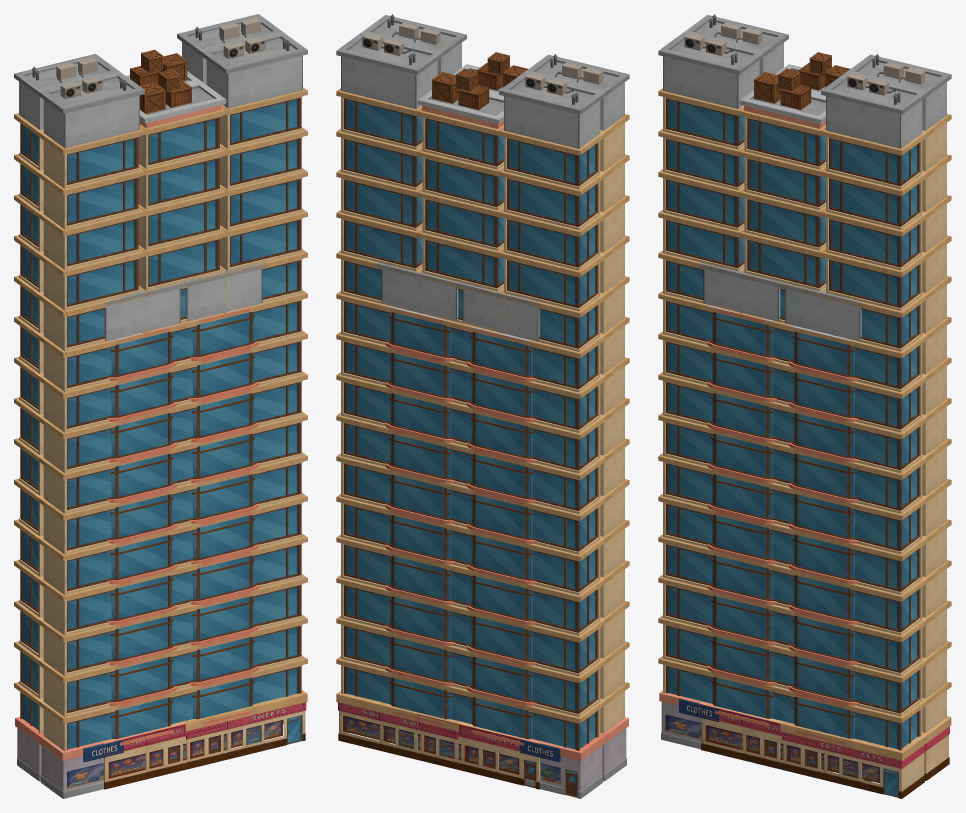
The model's file is modular-city.glb.
The picture shows the model from 3 angles, left to right: view 1: azimuth 30°, elevation 25°; view 2: azimuth 150°, elevation 25°; view 3: azimuth 330°, elevation 25°; orthographic projection.
Parts seen in each view (by area): view 1: Cube.002_Plate.004_Atlas_0 (×59), Cube.003_Atlas_0 (×20), Cube.002_Plate.011_Atlas_0 (×6), Building.013_Atlas_0 (×2), Building.002_Atlas_0 (×2), Building.001_Atlas_0 (×2), Cube.002_Plate.009_Atlas_0, Cube.008_Atlas_0; view 2: Cube.002_Plate.004_Atlas_0 (×60), Cube.003_Atlas_0 (×20), Cube.002_Plate.011_Atlas_0 (×6), Building.013_Atlas_0 (×2), Building.001_Atlas_0 (×2), Building.002_Atlas_0 (×2), Cube.002_Plate.009_Atlas_0, Cube.008_Atlas_0, Cube.007_Atlas_0; view 3: Cube.002_Plate.004_Atlas_0 (×59), Cube.003_Atlas_0 (×20), Cube.002_Plate.011_Atlas_0 (×6), Building.013_Atlas_0 (×3), Building.001_Atlas_0 (×2), Building.002_Atlas_0, Cube.002_Plate.009_Atlas_0, Cube.008_Atlas_0, Cube.007_Atlas_0.
Part boxes in pixels (x1,y1,x2,y2): Cube.002_Plate.004_Atlas_0 (×59): (14, 87, 307, 751); Cube.003_Atlas_0 (×20): (107, 304, 259, 745); Cube.002_Plate.011_Atlas_0 (×6): (14, 14, 307, 341); Building.013_Atlas_0 (×2): (183, 690, 307, 769); Building.002_Atlas_0 (×2): (15, 717, 143, 798); Building.001_Atlas_0 (×2): (101, 712, 226, 789); Cube.002_Plate.009_Atlas_0: (140, 81, 226, 128); Cube.008_Atlas_0: (140, 82, 165, 113); Cube.002_Plate.004_Atlas_0 (×60): (336, 88, 629, 750); Cube.003_Atlas_0 (×20): (384, 305, 536, 745); Cube.002_Plate.011_Atlas_0 (×6): (336, 15, 629, 341); Building.013_Atlas_0 (×2): (336, 691, 460, 763); Building.001_Atlas_0 (×2): (418, 713, 542, 789); Building.002_Atlas_0 (×2): (500, 717, 628, 798); Cube.002_Plate.009_Atlas_0: (417, 90, 503, 128); Cube.008_Atlas_0: (432, 72, 458, 103); Cube.007_Atlas_0: (458, 84, 489, 110); Cube.002_Plate.004_Atlas_0 (×59): (658, 88, 951, 750); Cube.003_Atlas_0 (×20): (707, 304, 858, 745); Cube.002_Plate.011_Atlas_0 (×6): (658, 15, 951, 341); Building.013_Atlas_0 (×3): (780, 716, 951, 798); Building.001_Atlas_0 (×2): (699, 701, 823, 772); Building.002_Atlas_0: (659, 690, 740, 749); Cube.002_Plate.009_Atlas_0: (739, 90, 825, 128); Cube.008_Atlas_0: (754, 72, 780, 103); Cube.007_Atlas_0: (780, 84, 811, 110).
Bounding box in the file's own units: 18.9 × 51.66 × 6.6.
Materials: 1 (1 with a texture image).
